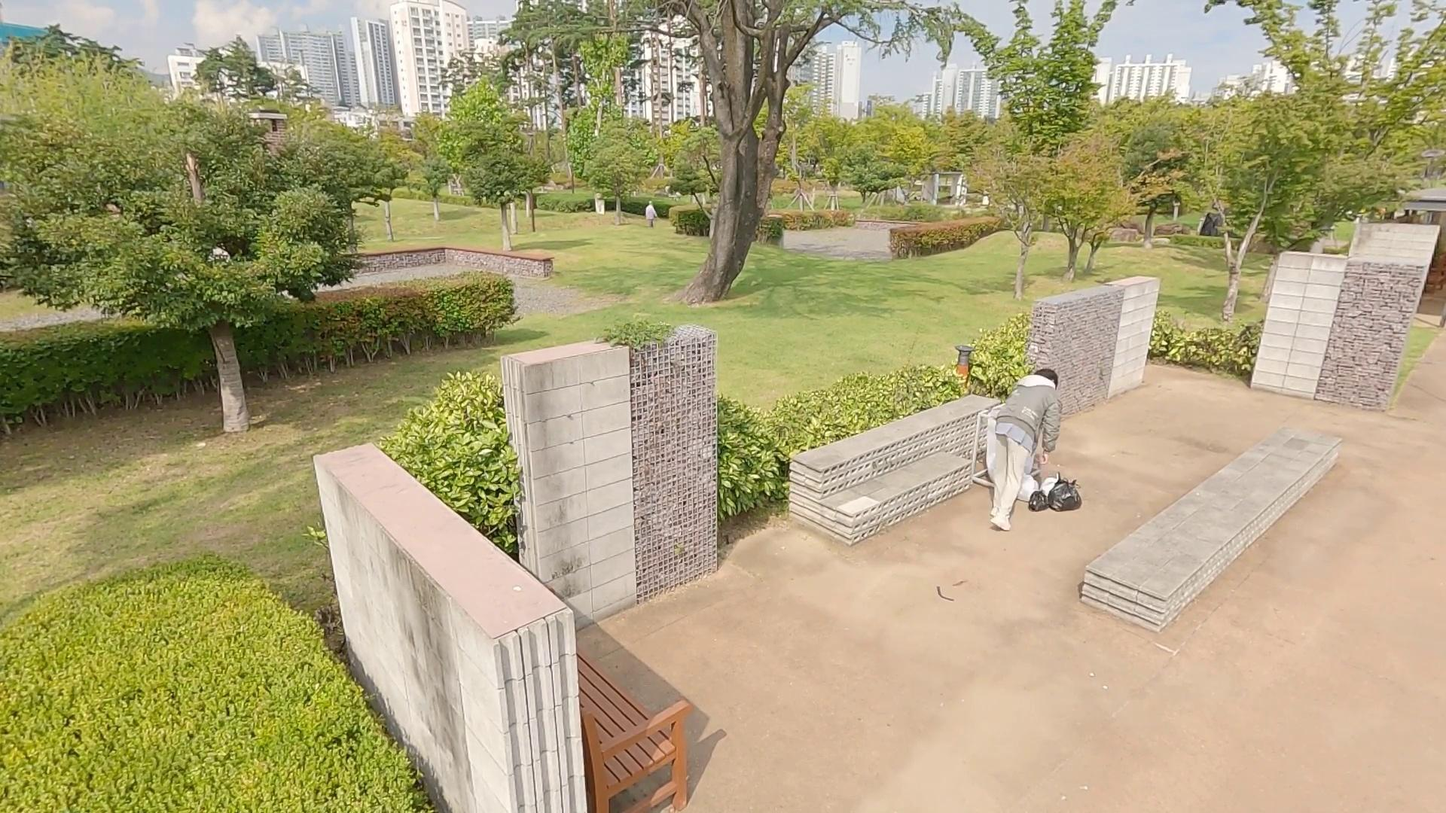person: (990, 366, 1060, 529)
trash: (1046, 479, 1084, 512), (1014, 472, 1040, 504), (1039, 475, 1066, 502), (1028, 488, 1048, 512)
